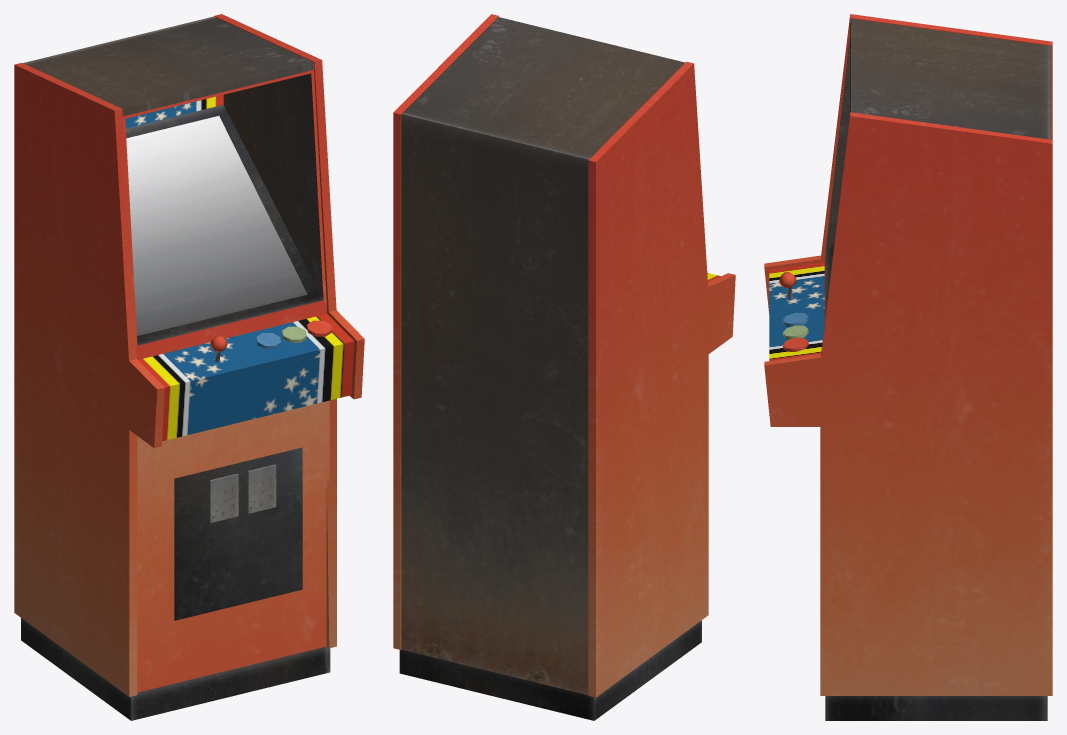
The model's file is arcadegame01b.fbx.
3 renders of one model, left to right at view 1: azimuth 30°, elevation 25°; view 2: azimuth 150°, elevation 25°; view 3: azimuth 270°, elevation 25°, orthographic. The views are drawn at different scales.
Parts seen in each view (by area): view 1: arcadegame01b; view 2: arcadegame01b; view 3: arcadegame01b.
Part boxes in pixels (x1,y1,x2,y2): arcadegame01b: (14, 14, 364, 720); arcadegame01b: (393, 14, 735, 720); arcadegame01b: (764, 14, 1052, 720).
Bounding box in the file's own units: 59.01 × 164 × 70.46.
